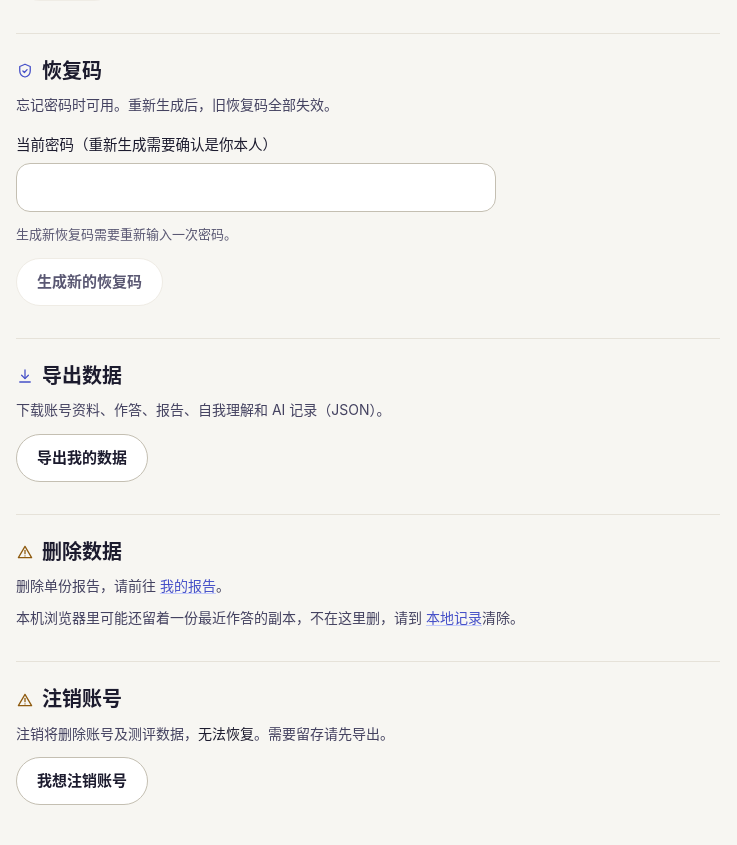
it: 账号页 · 导出完整性提示 › 导出完整时：说「都在里面」，且不显示不完整警告，注销区也没有警告
(page scrolled)
Click the button "导出我的数据" at (82, 458), box [16, 434, 148, 482]
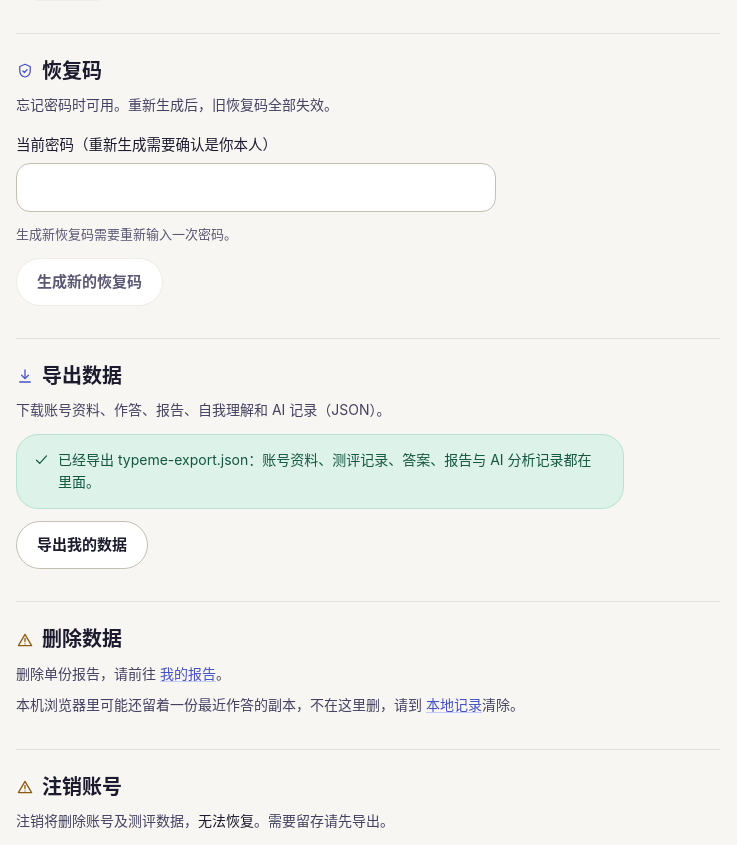
Result: the text "都在里面" is shown at [58, 450, 592, 490]
